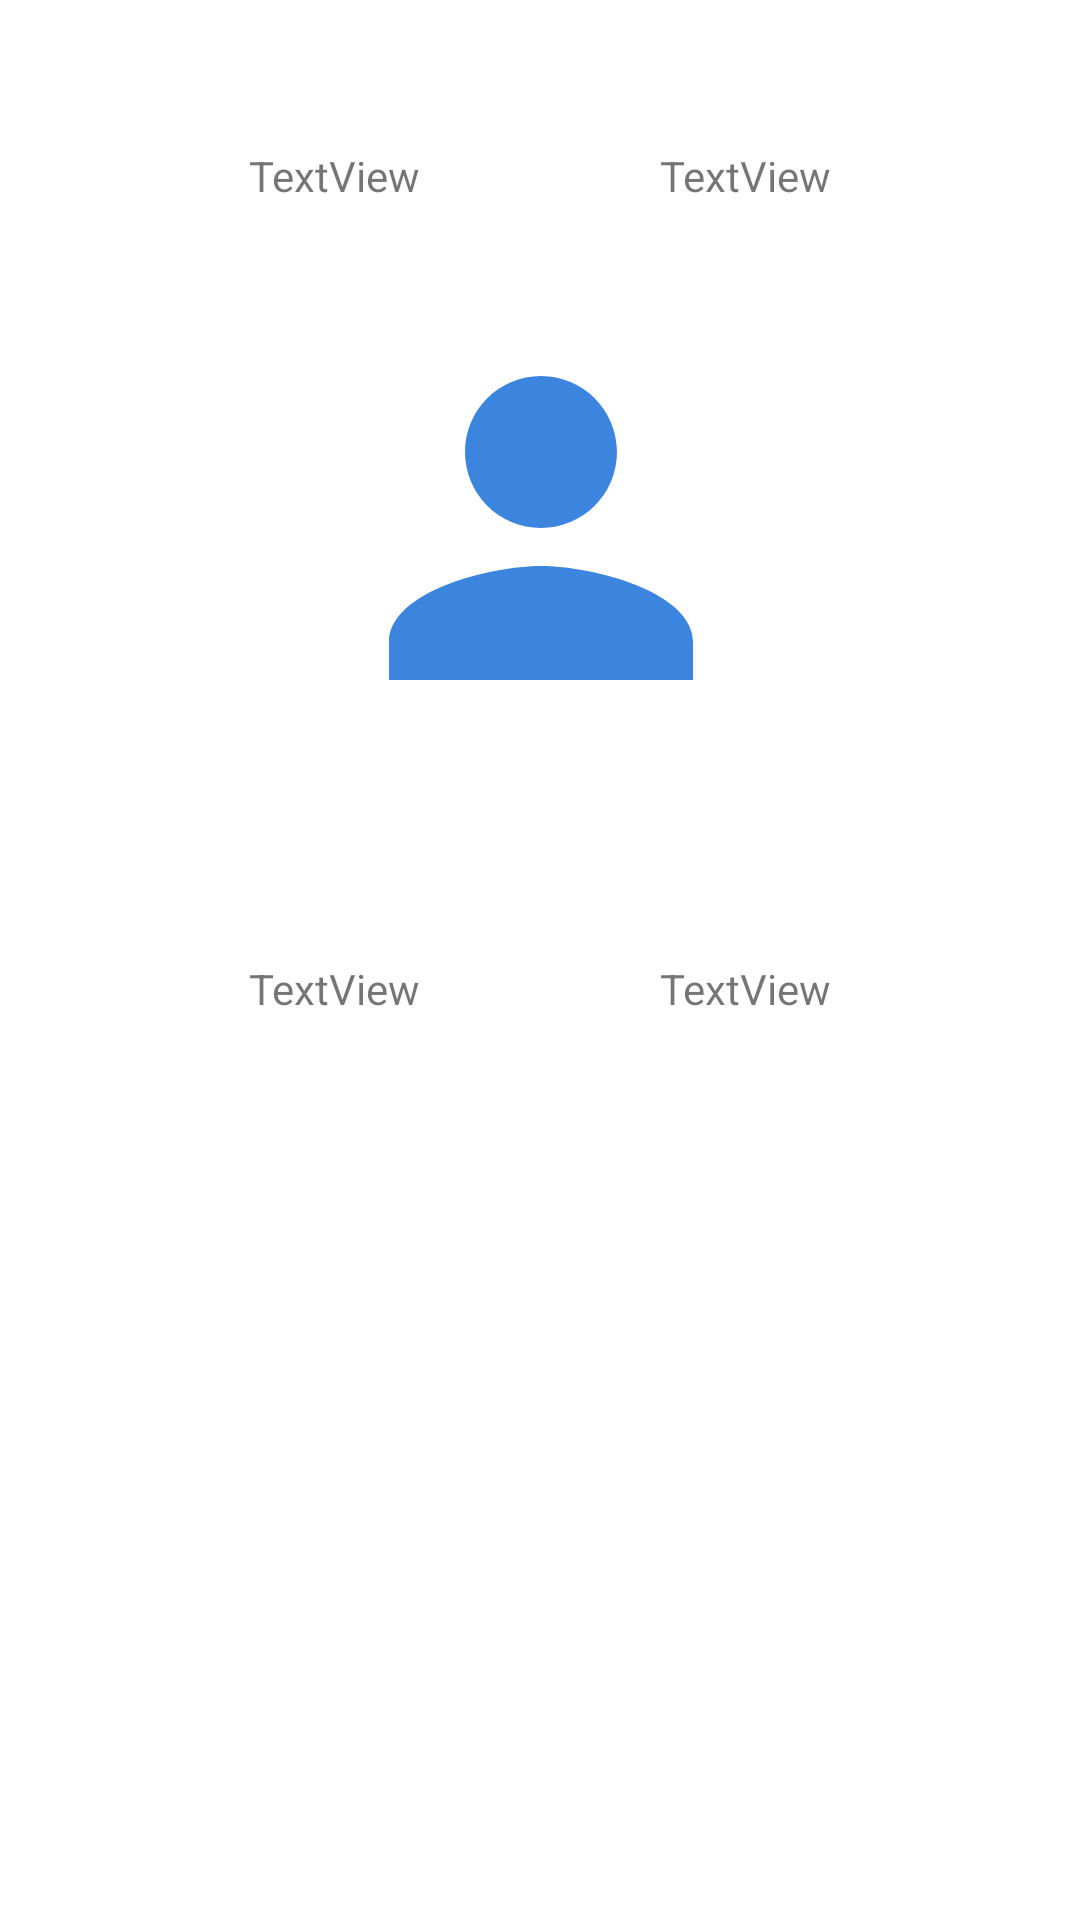

Where to tap for icons on this 1080x1920 app screen, as (x,y):
person: (541,528)
